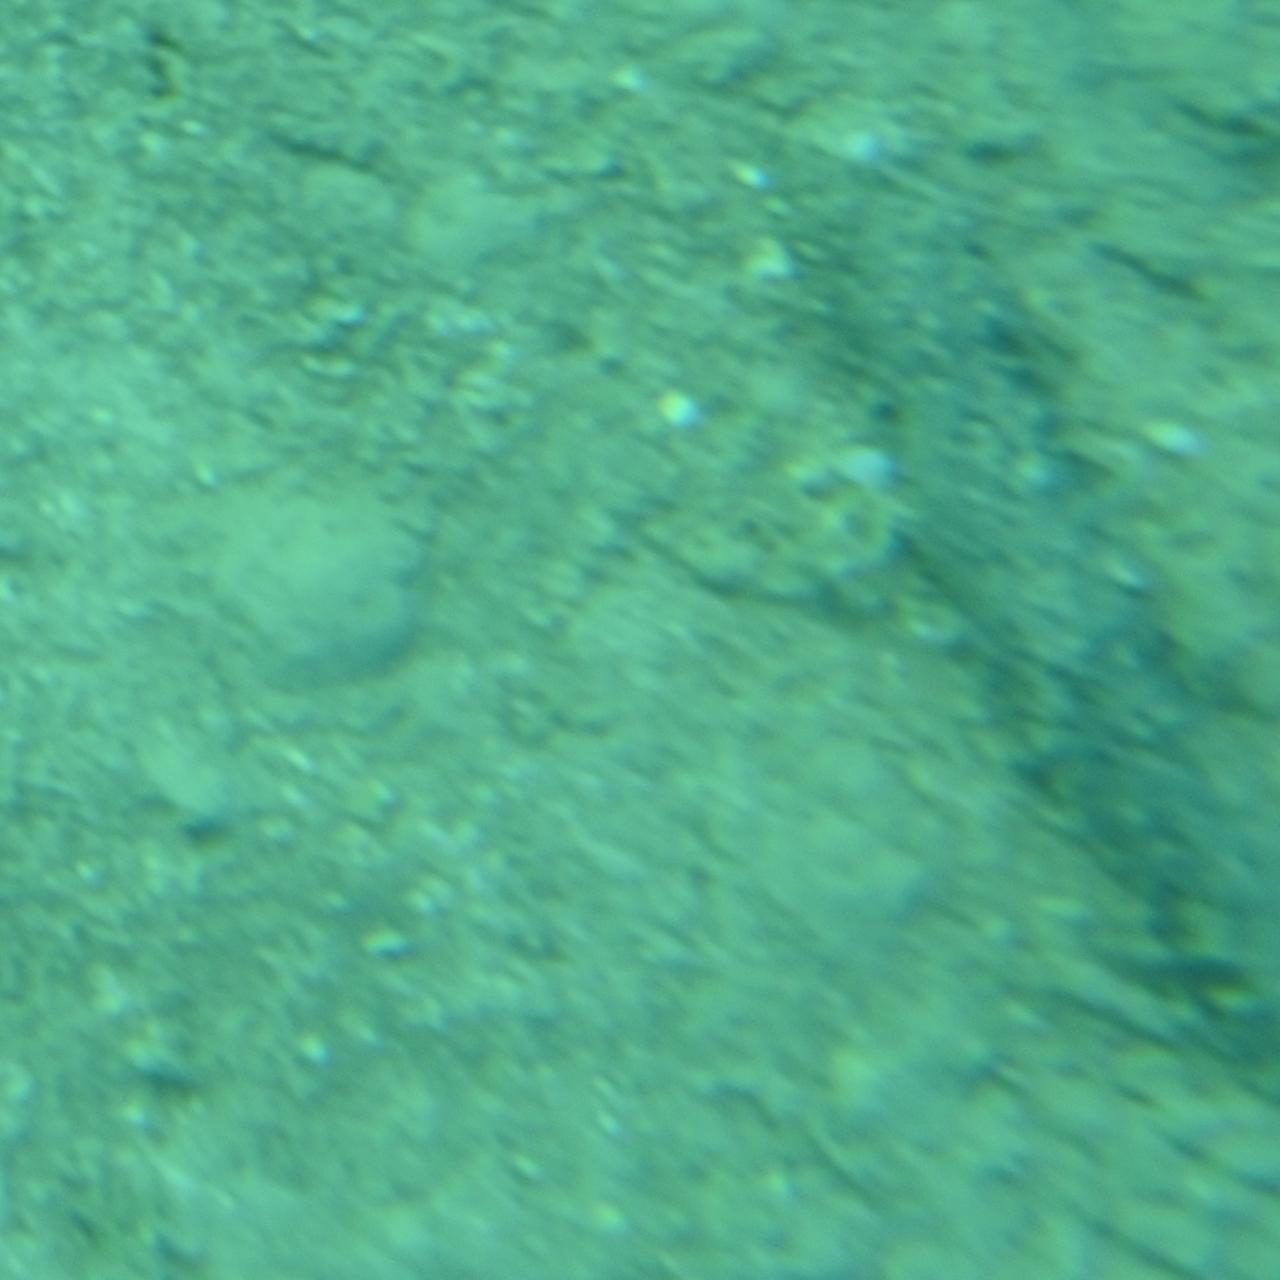Holothuria tubulosa: (769, 174, 1279, 1106)
